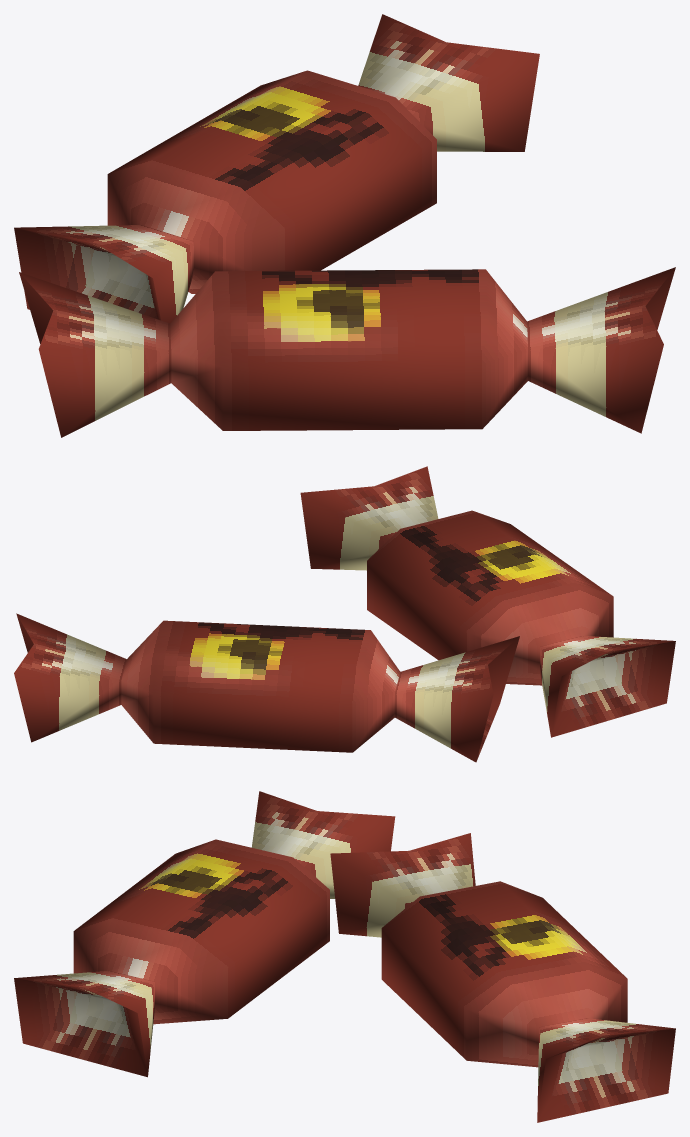
The model's file is AL_Gloria.fbx.
The picture shows the model from 3 angles, top to bottom: view 1: azimuth 30°, elevation 25°; view 2: azimuth 150°, elevation 25°; view 3: azimuth 270°, elevation 25°; orthographic projection. The views are drawn at different scales.
Parts seen in each view (by area): view 1: CandyMolasses001; view 2: CandyMolasses001; view 3: CandyMolasses001.
Boxes of the visible parts, left/top/right/bottom form: CandyMolasses001: left=14, top=14, right=675, bottom=437; CandyMolasses001: left=14, top=466, right=675, bottom=762; CandyMolasses001: left=14, top=791, right=675, bottom=1122.
Size of the model in its own units: 0.2012 by 0.032 by 0.1927.
